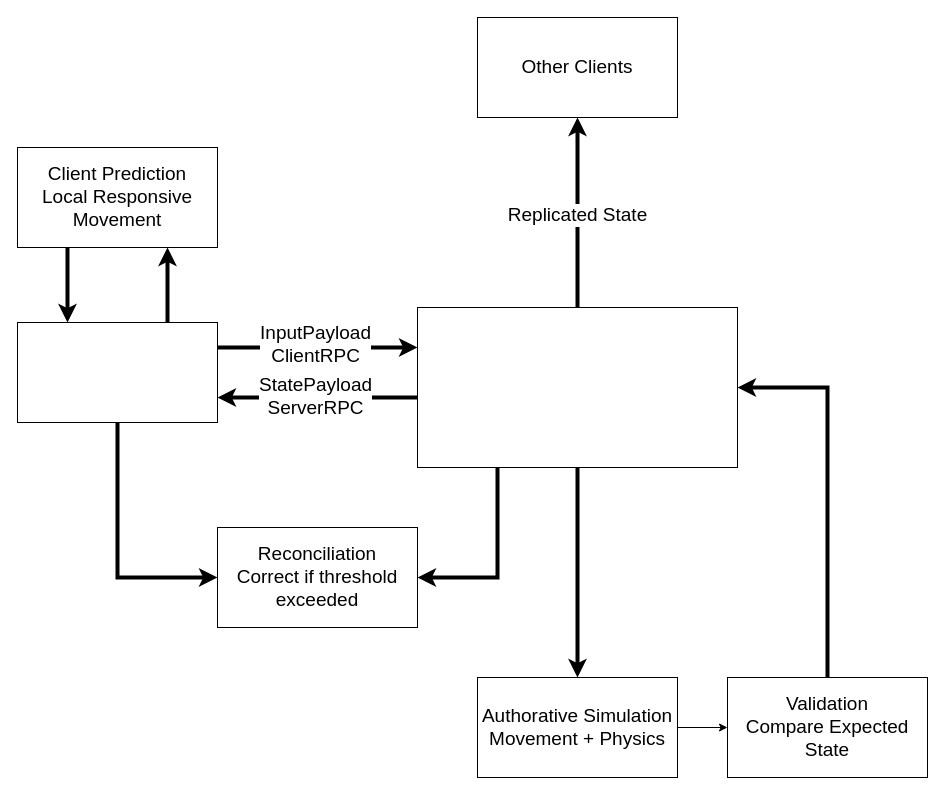
The diagram is 945 pixels wide and 795 high, and some of its shapes have lost their labels. The centre of each missing label's shape, as x and y in pixels:
Client / Player: point (117, 372)
Host / Server (Semi-Authoritative): point (577, 387)
